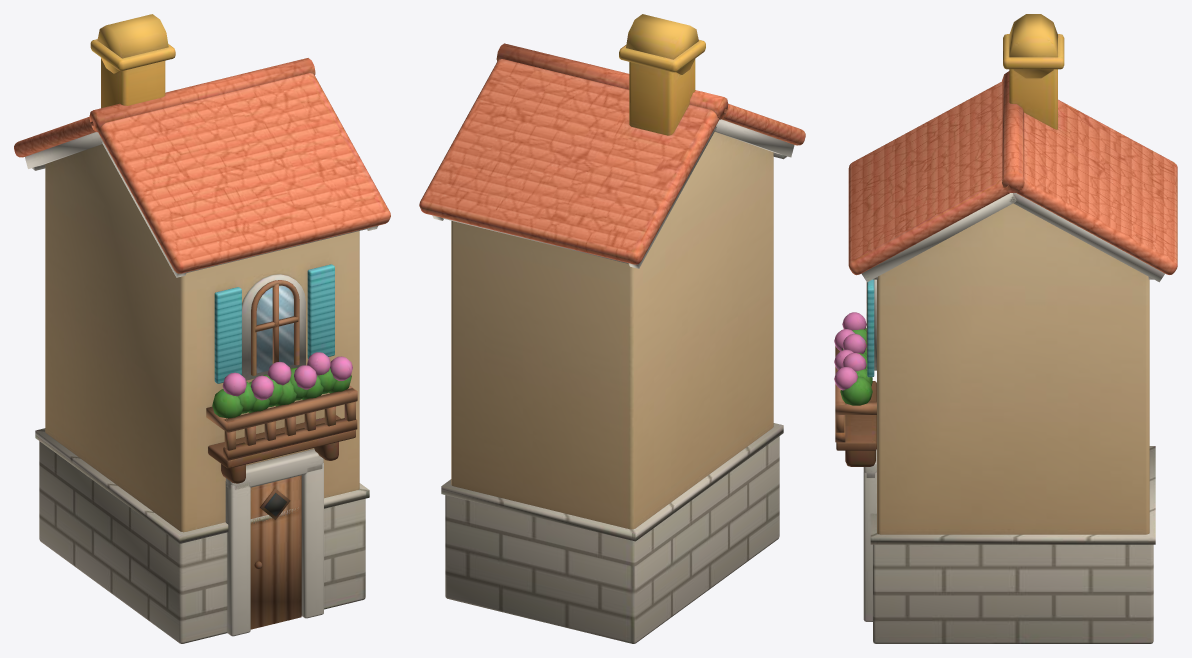
Rendered from house_terra_3_high.glb.
3 views of the same model, side by side, from view 1: azimuth 30°, elevation 25°; view 2: azimuth 150°, elevation 25°; view 3: azimuth 270°, elevation 25° (orthographic). The views are drawn at different scales.
Parts seen in each view (by area): view 1: house_terra_3; view 2: house_terra_3; view 3: house_terra_3.
Boxes of the visible parts, <box> form: house_terra_3: <box>14,14,390,643</box>; house_terra_3: <box>419,14,805,643</box>; house_terra_3: <box>834,14,1177,643</box>.
Bounding box in the file's own units: 1.2 × 2.96 × 1.69.
1 material, 1 textured.
